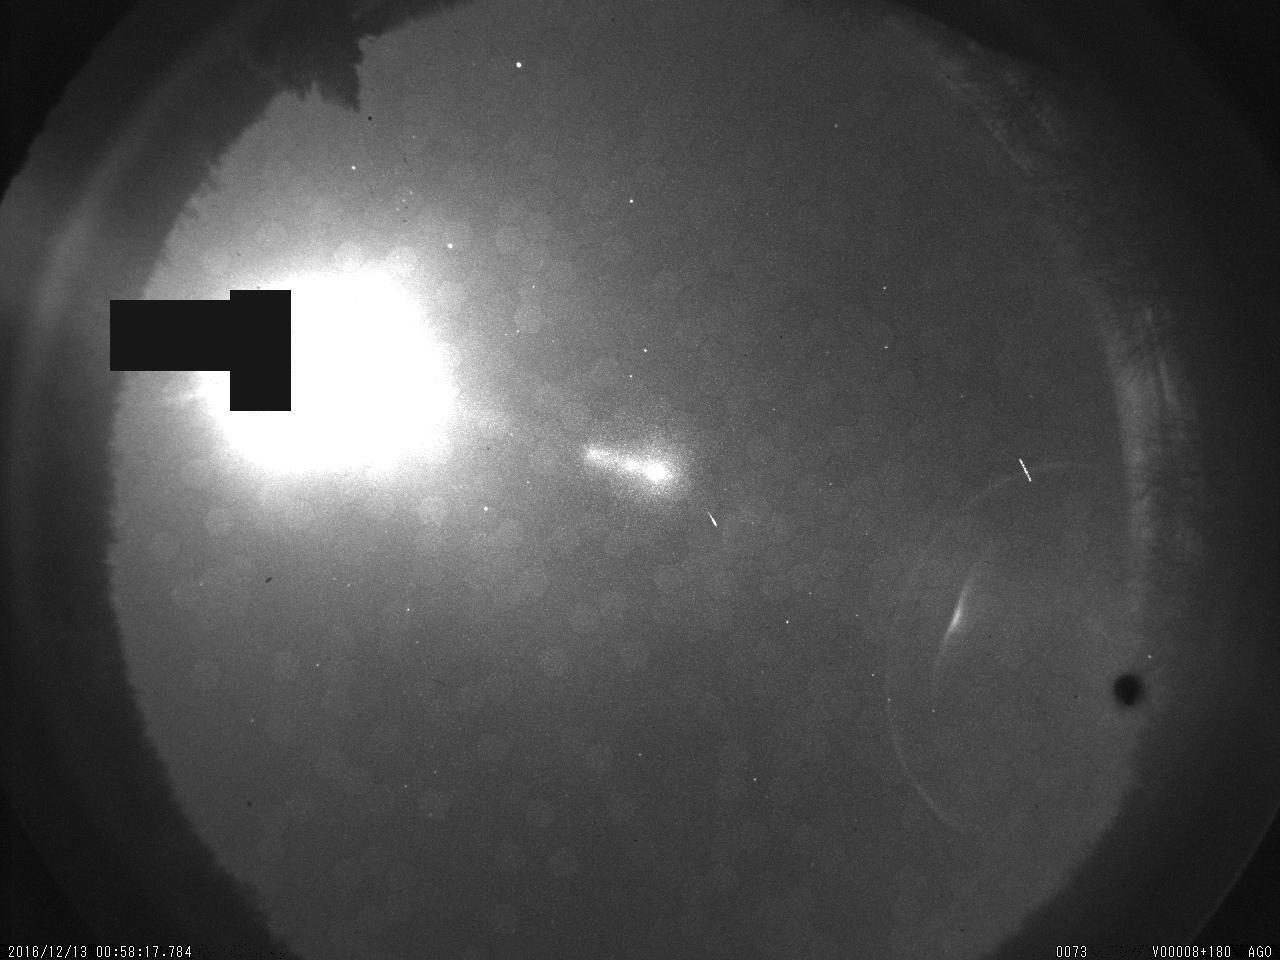Meteor: (703, 504, 724, 533)
